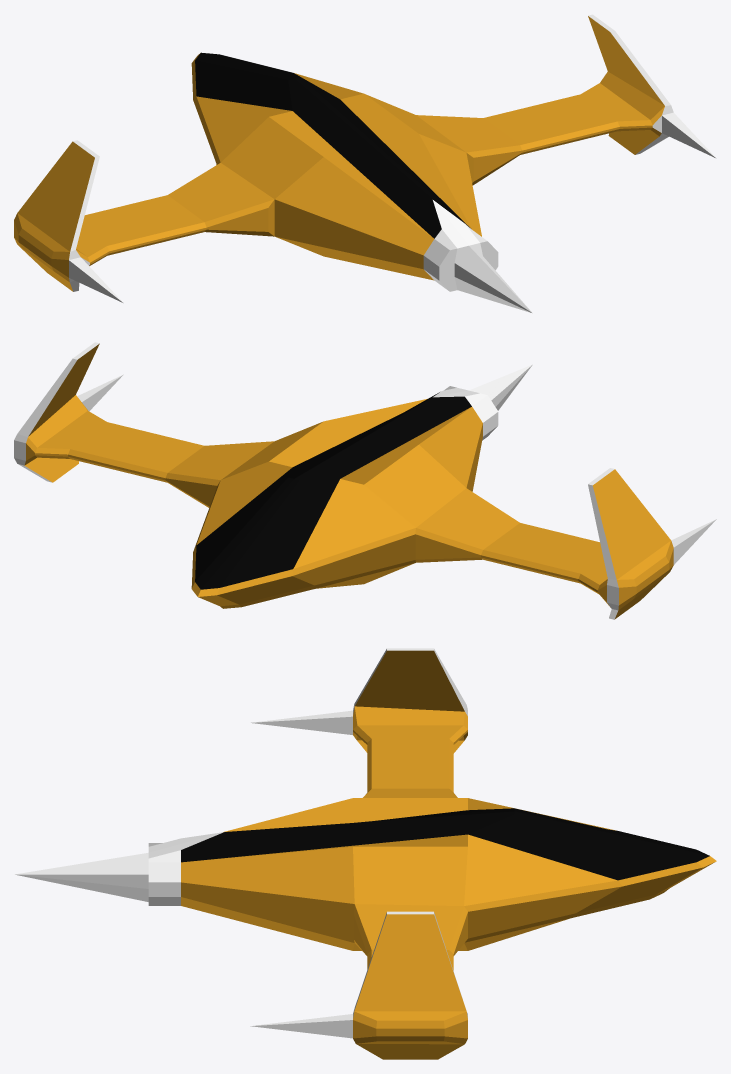
The model's file is ship.glb.
3 renders of one model, top to bottom at view 1: azimuth 30°, elevation 25°; view 2: azimuth 150°, elevation 25°; view 3: azimuth 270°, elevation 25°, orthographic. The views are drawn at different scales.
Visible parts, largest first — view 1: Cube; view 2: Cube; view 3: Cube.
Part boxes in pixels (<box>): Cube: <box>14,14,716,313</box>; Cube: <box>14,342,716,619</box>; Cube: <box>14,648,716,1059</box>.
Bounding box in the file's own units: 1.3 × 0.2788 × 1.22.
